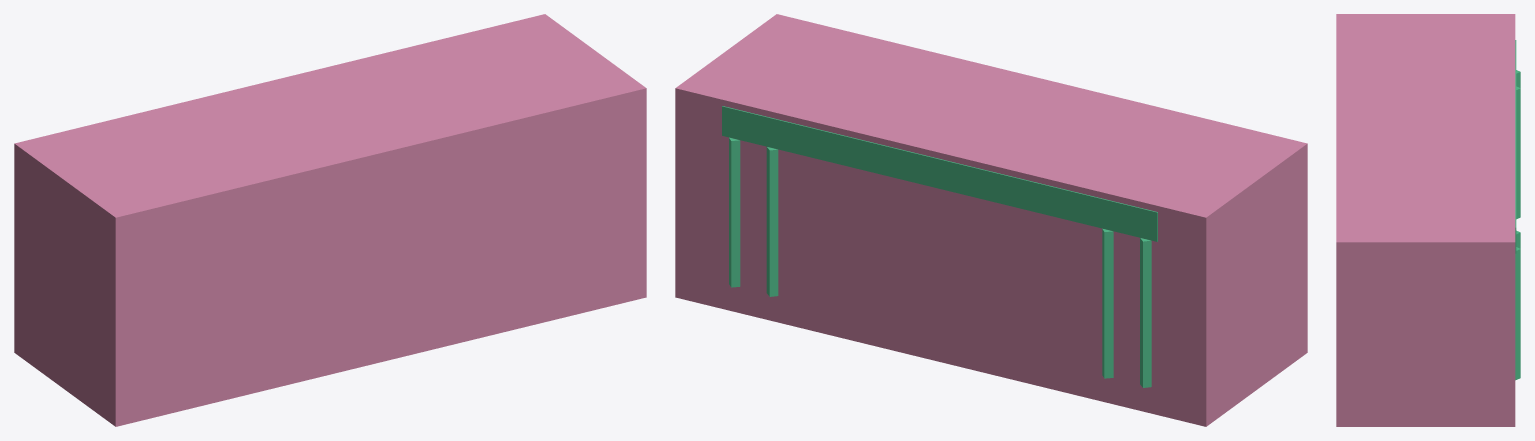
The model's file is race_footbridge_01.dae.
3 views of the same model, side by side, from view 1: azimuth 30°, elevation 25°; view 2: azimuth 150°, elevation 25°; view 3: azimuth 270°, elevation 25° (orthographic). The views are drawn at different scales.
Visible parts, largest first — view 1: Untitled; view 2: Untitled, Colmesh-1; view 3: Untitled, Colmesh-1.
Part boxes in pixels (<box>): Untitled: <box>14,14,646,426</box>; Untitled: <box>675,14,1307,426</box>; Colmesh-1: <box>722,106,1157,387</box>; Untitled: <box>1336,14,1515,426</box>; Colmesh-1: <box>1515,40,1520,380</box>.
Size of the model in its own units: 22.75 by 7.76 by 8.57.
